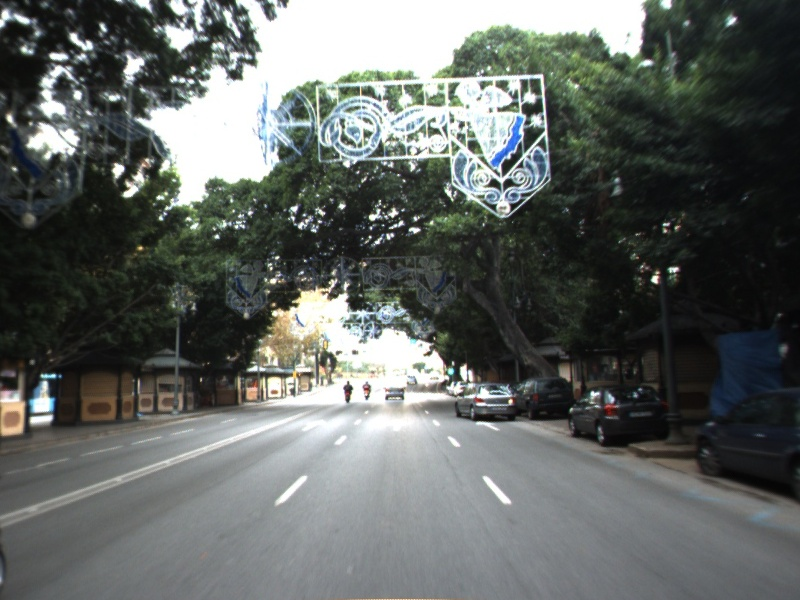STRAIGHT: (300, 417, 330, 433), (472, 418, 503, 432)
